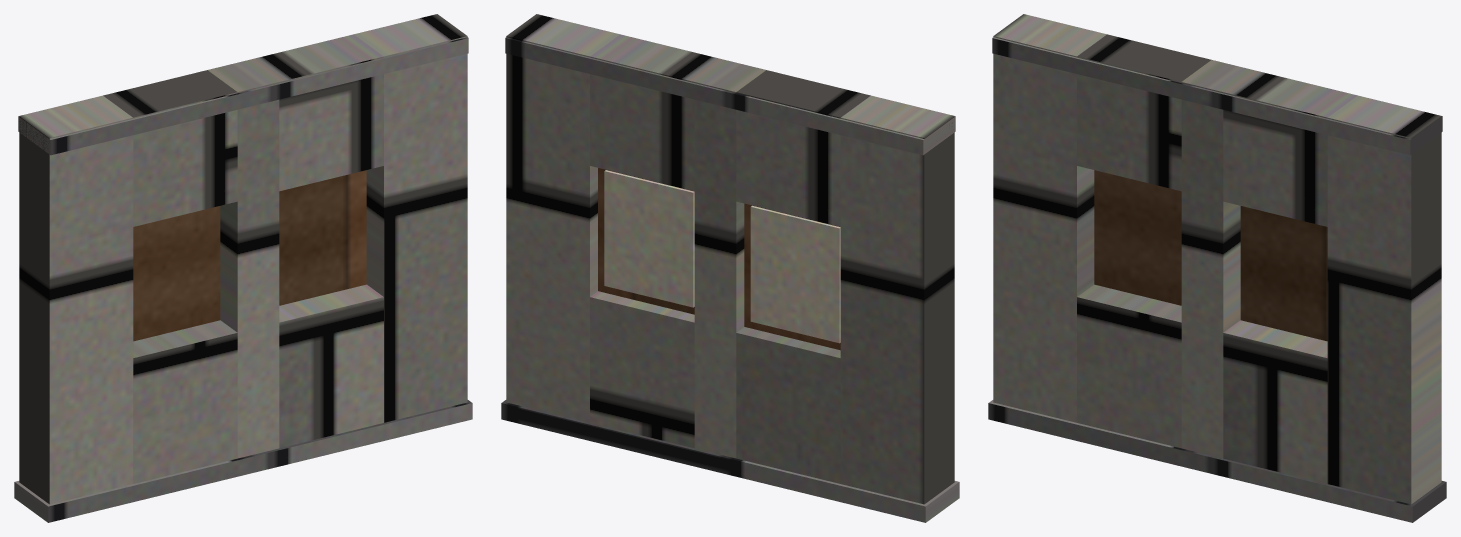
The model's file is CastleKeepWall.glb.
3 renders of one model, left to right at view 1: azimuth 30°, elevation 25°; view 2: azimuth 150°, elevation 25°; view 3: azimuth 330°, elevation 25°, orthographic.
Parts seen in each view (by area): view 1: CastleKeepWall; view 2: CastleKeepWall; view 3: CastleKeepWall.
Boxes of the visible parts, <box> form: CastleKeepWall: <box>14,14,472,522</box>; CastleKeepWall: <box>501,14,959,522</box>; CastleKeepWall: <box>988,14,1446,522</box>.
Size of the model in its own units: 4.06 by 3.5 by 0.56.
4 materials, 4 textured.
